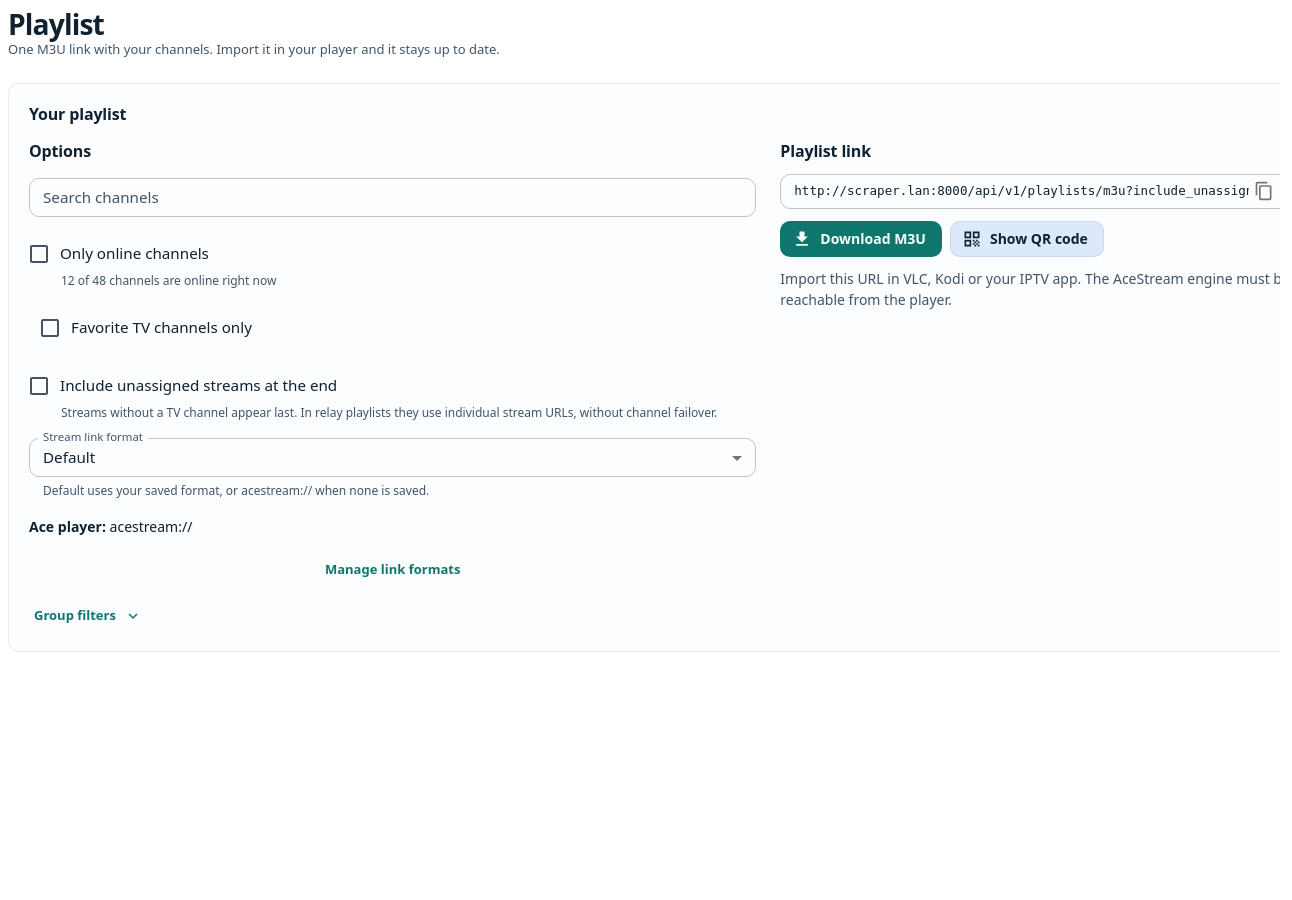
Test: Playlist page › includes unassigned streams only when selected and excludes them for favorites
Step 1. Click the checkbox labelled "Include unassigned streams at the end" → (182, 386), box [27,374,337,398]
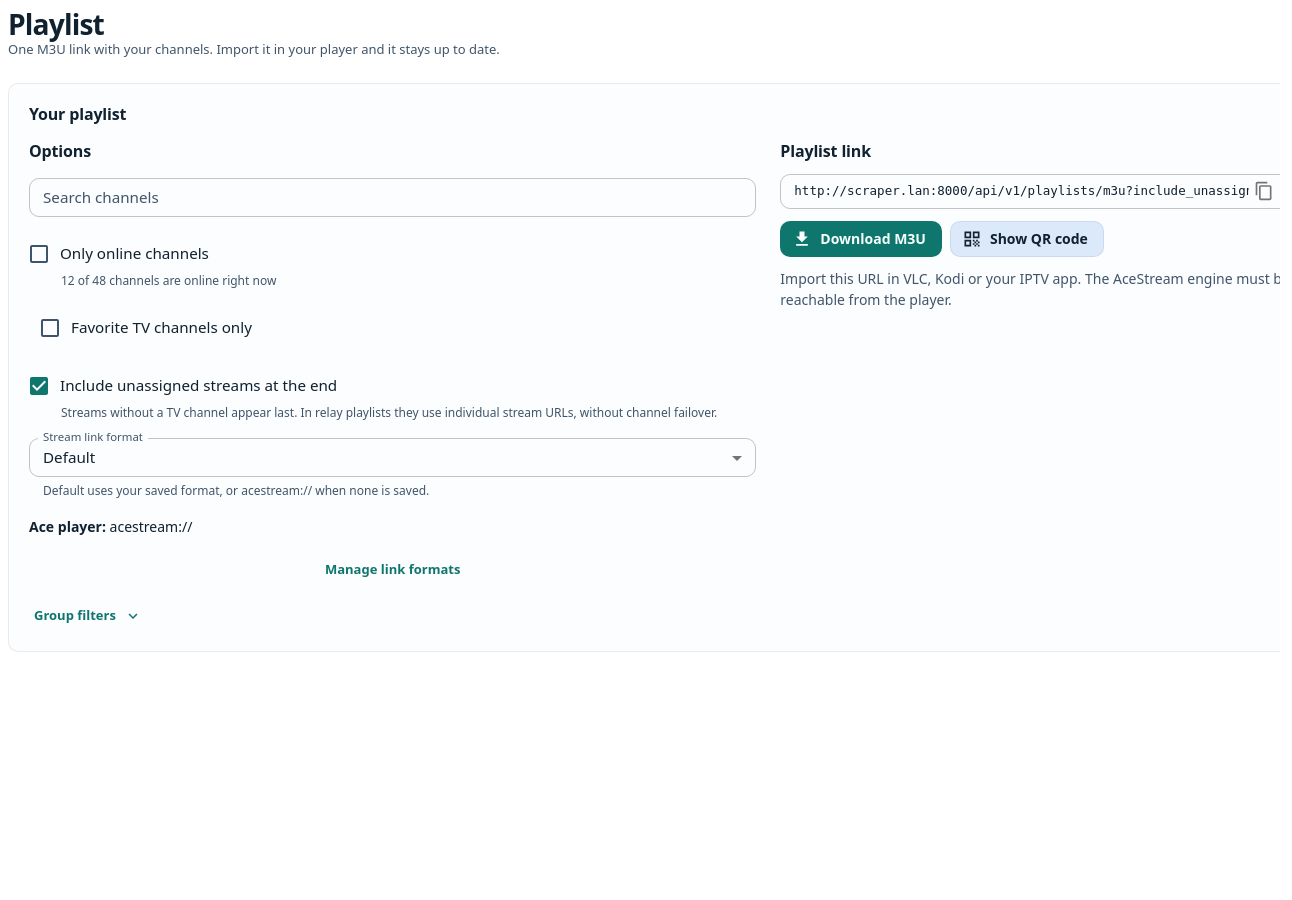
Step 2. Click the checkbox labelled "Favorite TV channels only" → (145, 328), box [38,316,252,340]
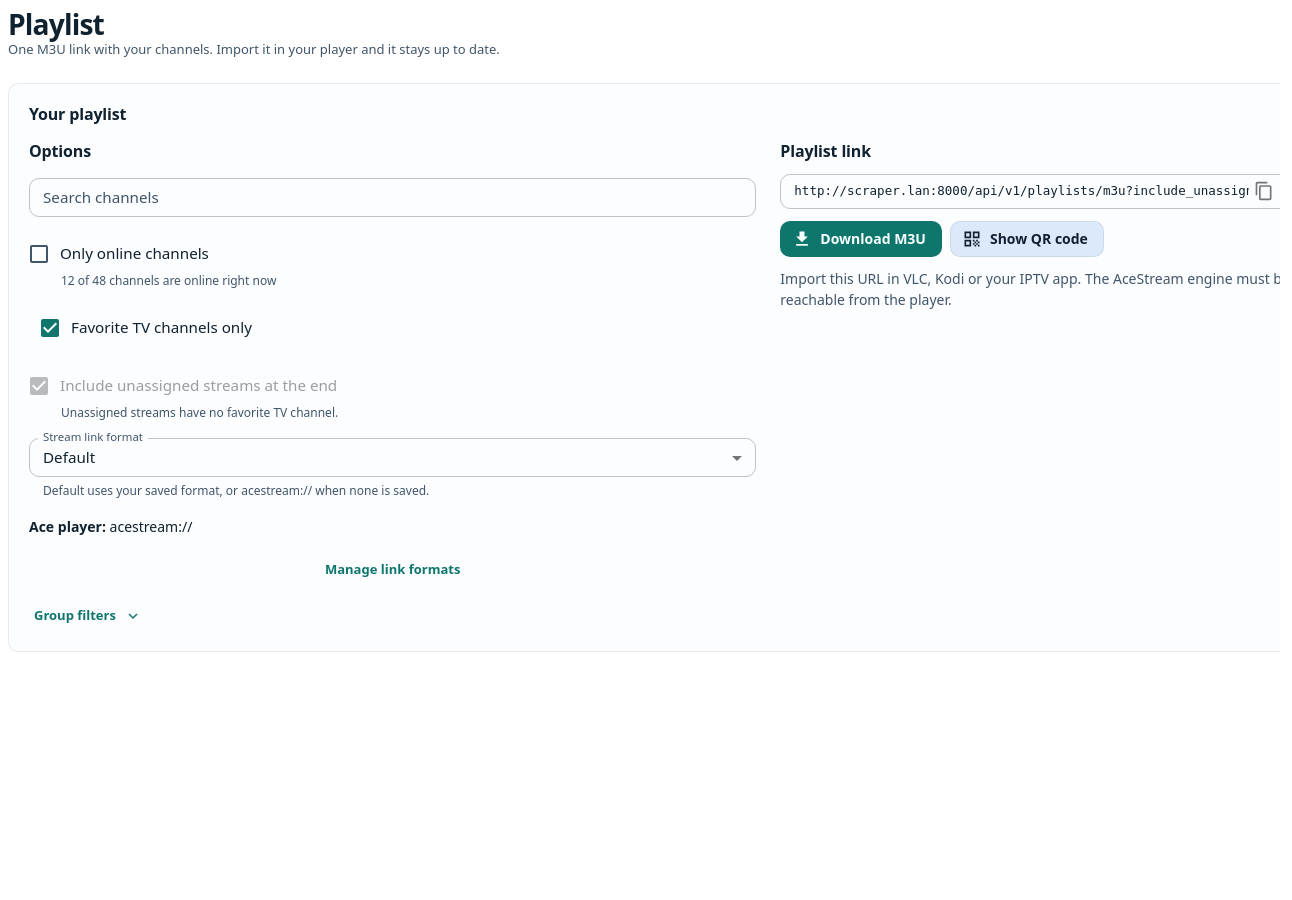
Expected: the checkbox labelled "Include unassigned streams at the end" is disabled, [27,374,337,398]
